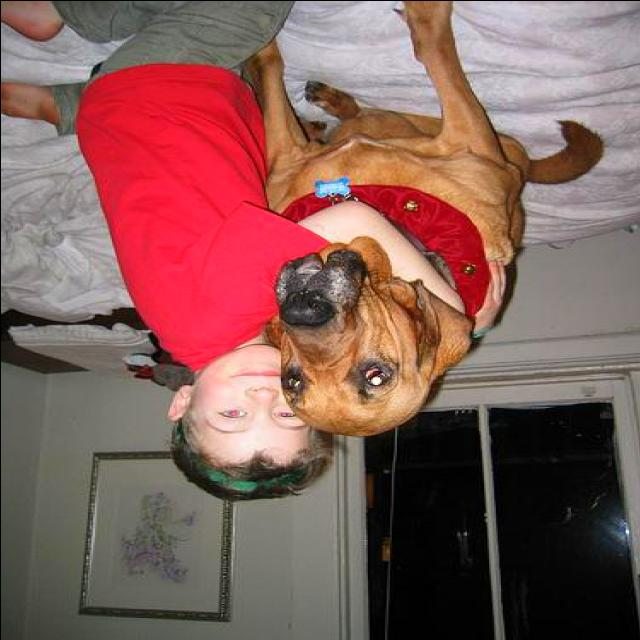bloodhound: (244, 2, 609, 438)
